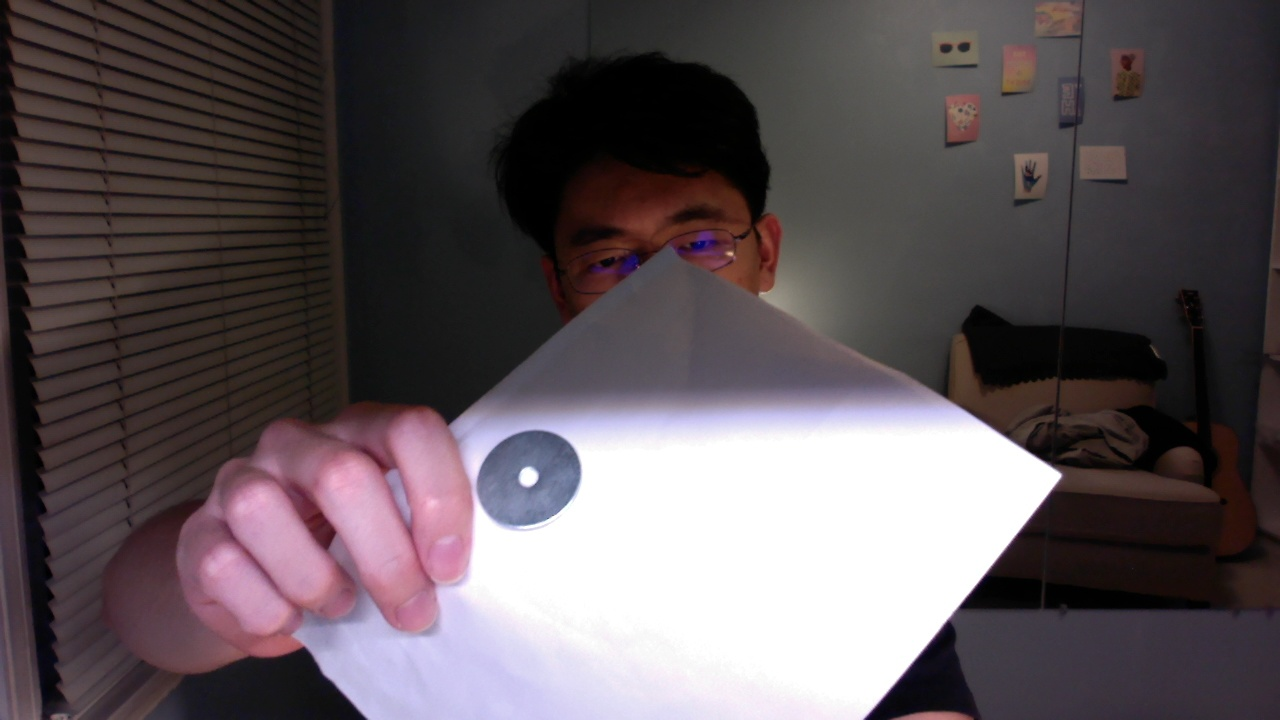NonDetectiveWashers: (477, 430, 584, 528)
